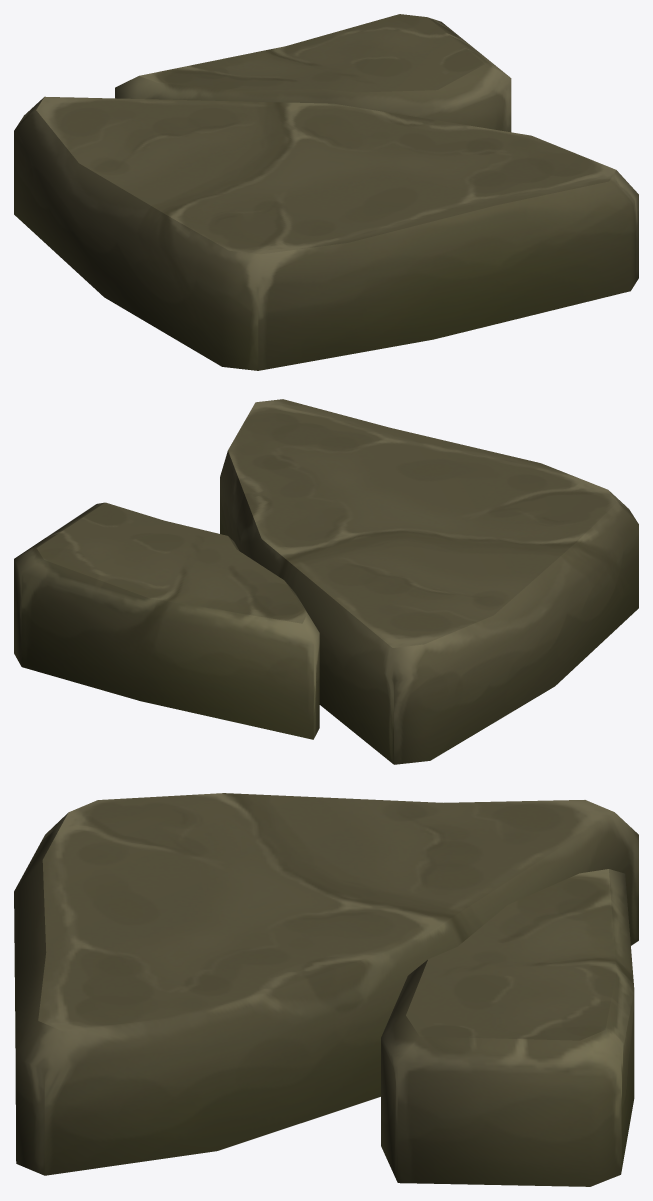
Rendered from Tile_4.FBX.
The picture shows the model from 3 angles, top to bottom: view 1: azimuth 30°, elevation 25°; view 2: azimuth 150°, elevation 25°; view 3: azimuth 270°, elevation 25°; orthographic projection. The views are drawn at different scales.
Parts seen in each view (by area): view 1: Tile_4; view 2: Tile_4; view 3: Tile_4.
Part boxes in pixels (x1,y1,x2,y2): Tile_4: (14, 14, 638, 370); Tile_4: (14, 399, 638, 764); Tile_4: (14, 793, 638, 1186).
Size of what is drawn, in the model's own units: 127 by 123 by 29.59.
